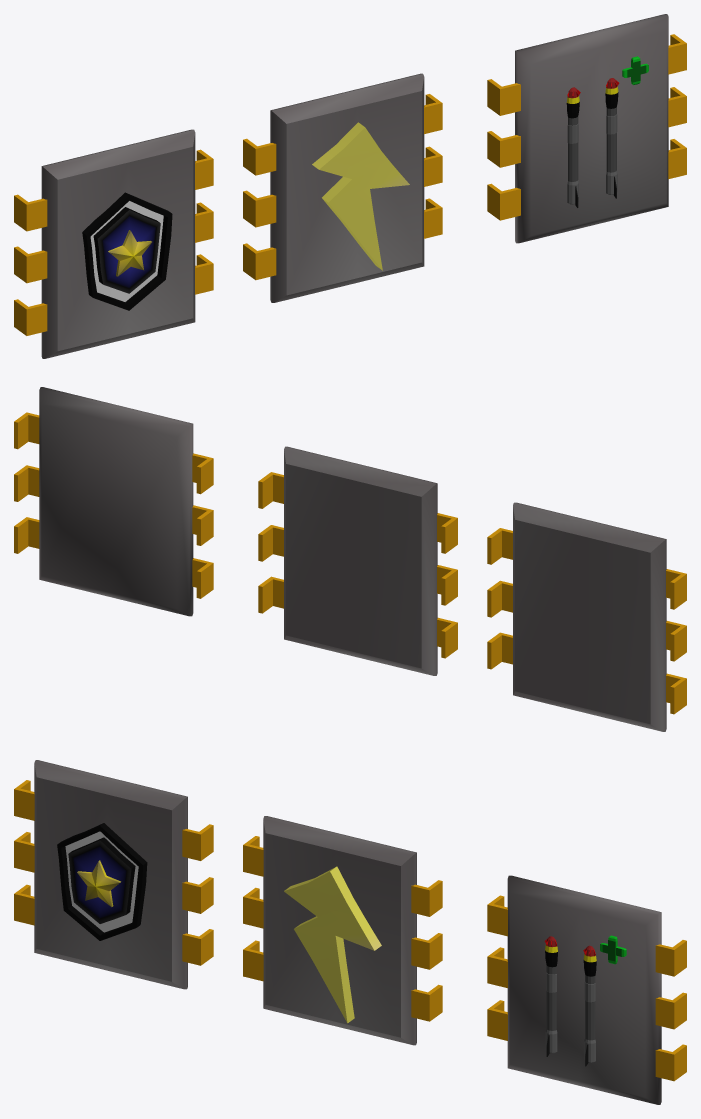
File: Alivasion_PowerUps.fbx
3 renders of one model, top to bottom at view 1: azimuth 30°, elevation 25°; view 2: azimuth 150°, elevation 25°; view 3: azimuth 330°, elevation 25°, orthographic.
Parts seen in each view (by area): view 1: ShieldPwrUp, EnergyPwrUp, BulletPwrUp; view 2: BulletPwrUp, ShieldPwrUp, EnergyPwrUp; view 3: BulletPwrUp, EnergyPwrUp, ShieldPwrUp.
Boxes of the visible parts, box(x1,y1,x2,y2) form: ShieldPwrUp: box(14, 129, 213, 358); EnergyPwrUp: box(243, 73, 442, 302); BulletPwrUp: box(487, 14, 686, 243); BulletPwrUp: box(14, 387, 213, 616); ShieldPwrUp: box(487, 502, 686, 731); EnergyPwrUp: box(258, 446, 457, 675); BulletPwrUp: box(487, 875, 686, 1104); EnergyPwrUp: box(243, 816, 442, 1045); ShieldPwrUp: box(14, 760, 213, 989).
Bounding box in the file's own units: 46.12 × 12.83 × 3.05.
